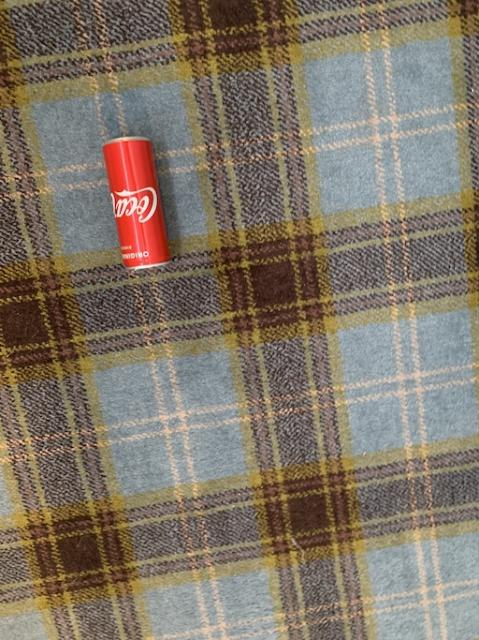metal: (102, 136, 169, 267)
